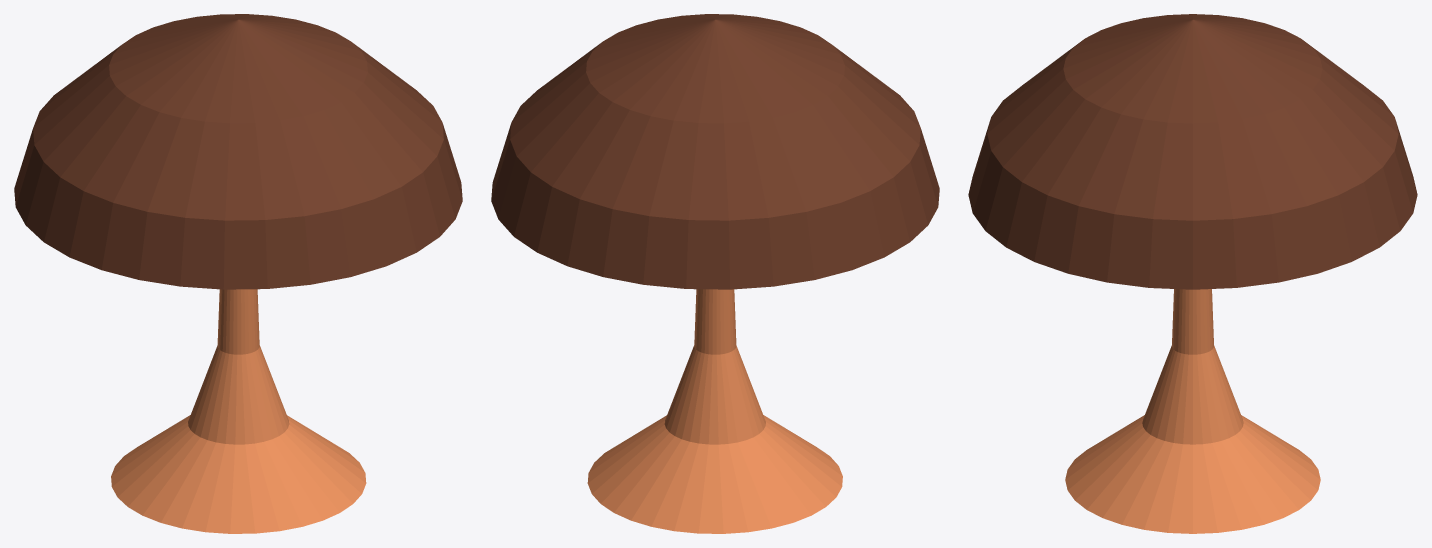
File: champi-01.obj
3 renders of one model, left to right at view 1: azimuth 30°, elevation 25°; view 2: azimuth 150°, elevation 25°; view 3: azimuth 270°, elevation 25°, orthographic.
Visible parts, largest first — view 1: Cone; view 2: Cone; view 3: Cone.
Boxes of the visible parts, box(x1,y1,x2,y2) form: Cone: box(14, 14, 462, 533); Cone: box(491, 14, 939, 533); Cone: box(968, 14, 1417, 533).
Bounding box in the file's own units: 102 × 115 × 102.
